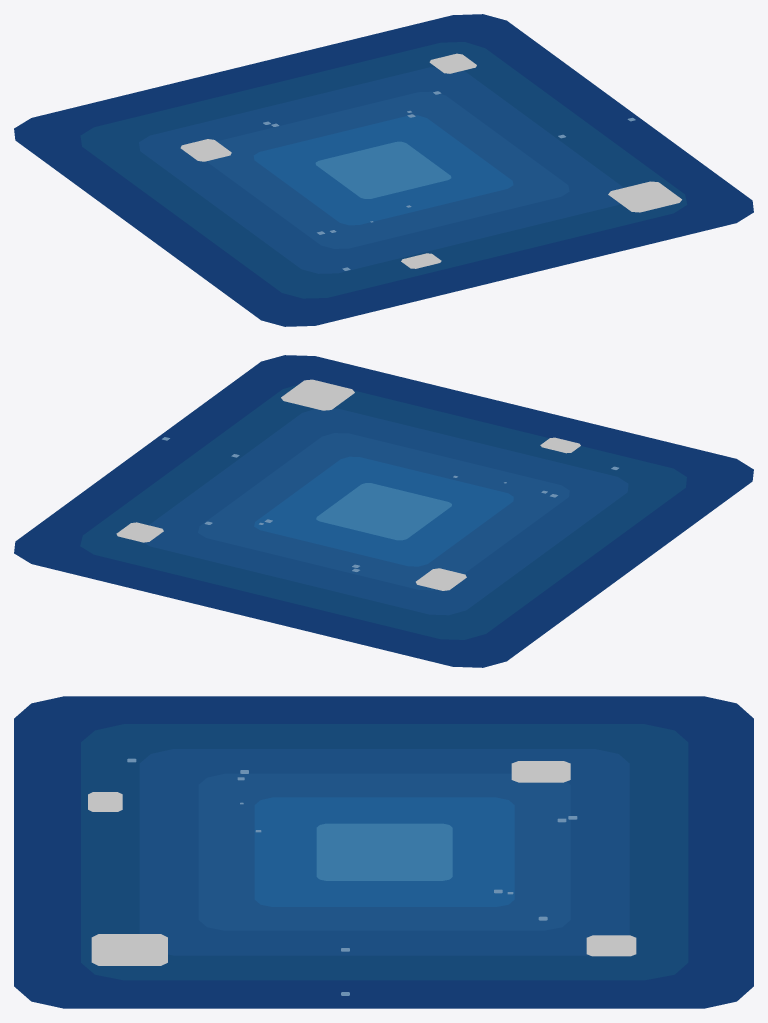
File: BC_cookrecipe_S_26.fbx
The picture shows the model from 3 angles, top to bottom: view 1: azimuth 30°, elevation 25°; view 2: azimuth 150°, elevation 25°; view 3: azimuth 270°, elevation 25°; orthographic projection. The views are drawn at different scales.
Visible parts, largest first — view 1: base, boko2, boko4, boko1; view 2: base, boko2, boko4, boko1; view 3: base, boko2, boko4, boko1, boko3.
Boxes of the visible parts, <box> form: base: <box>14,14,753,326</box>; boko2: <box>608,181,681,212</box>; boko4: <box>180,139,231,161</box>; boko1: <box>429,53,476,73</box>; base: <box>14,355,753,667</box>; boko2: <box>281,379,354,410</box>; boko4: <box>416,568,466,590</box>; boko1: <box>116,522,163,542</box>; base: <box>14,696,753,1008</box>; boko2: <box>91,934,167,965</box>; boko4: <box>511,761,570,782</box>; boko1: <box>586,935,636,956</box>; boko3: <box>88,792,122,811</box>.
Size of the model in its own units: 3.5 by 0.0339 by 3.5.
